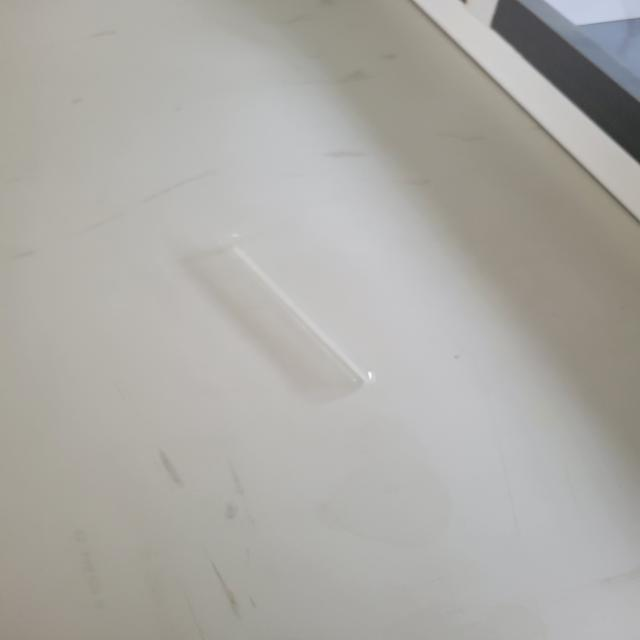Test_Tube: (165, 198, 422, 412)
